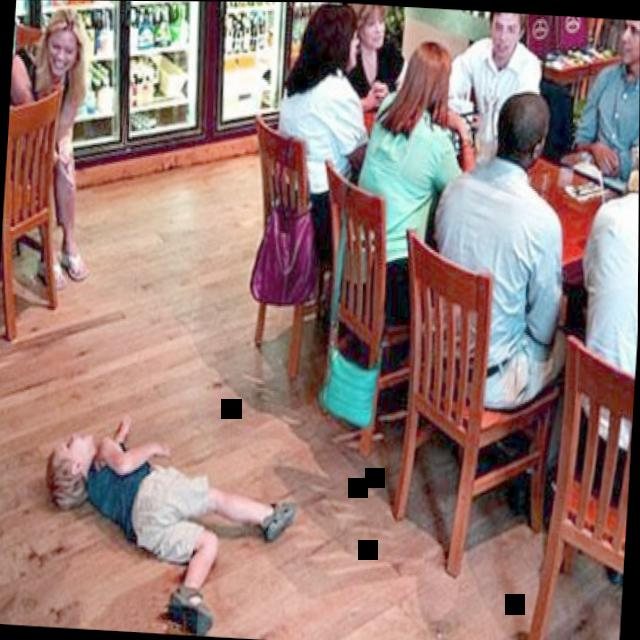Fall-Detected: (27, 383, 311, 637)
